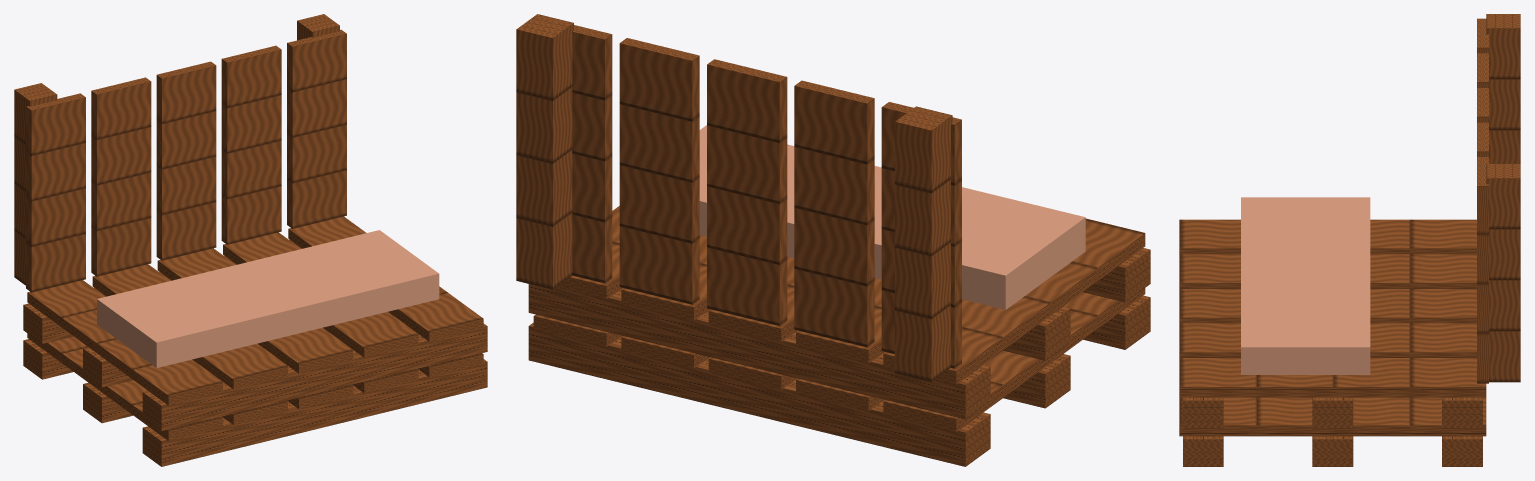
Rendered from allotments-and-community-garden-pallet-bench-0d7c95dd__35152.glb.
The picture shows the model from 3 angles, left to right: view 1: azimuth 30°, elevation 25°; view 2: azimuth 150°, elevation 25°; view 3: azimuth 270°, elevation 25°; orthographic projection. The views are drawn at different scales.
Visible parts, largest first — view 1: pallet-bench-timber, pallet-bench-terracotta; view 2: pallet-bench-timber, pallet-bench-terracotta; view 3: pallet-bench-timber, pallet-bench-terracotta.
Boxes of the visible parts, x1,y1,x2,y2 form: pallet-bench-timber: (14, 14, 487, 466); pallet-bench-terracotta: (97, 230, 439, 367); pallet-bench-timber: (516, 14, 1150, 466); pallet-bench-terracotta: (699, 125, 1085, 309); pallet-bench-timber: (1179, 14, 1520, 466); pallet-bench-terracotta: (1241, 197, 1370, 374).
Bounding box in the file's own units: 1.2 × 0.9201 × 1.
Materials: 2 (1 with a texture image).
